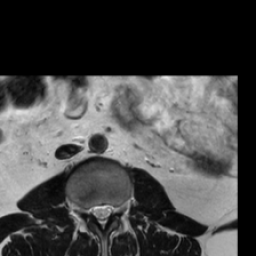CCS_normal: (99, 195, 106, 233)
LFS_stenosis: (114, 200, 122, 218)
LLS_normal: (106, 199, 114, 220)
RFS_stenosis: (83, 199, 91, 219)
RLS_normal: (91, 200, 99, 220)
